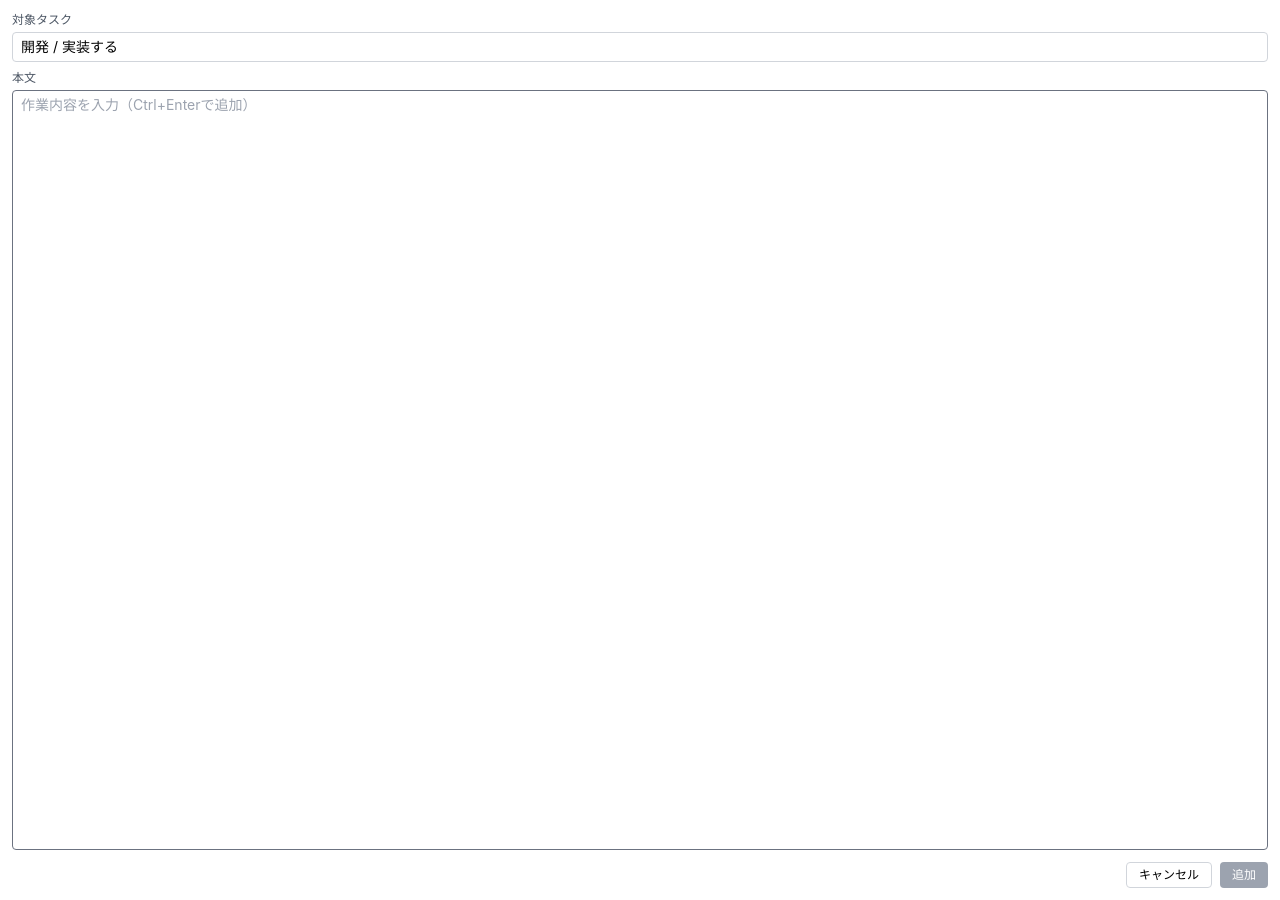
QuickLogDialog › 検索で対象タスクを切り替えられる
The width and height of the screenshot is (1280, 900).
In the field labelled "対象タスク": (640, 47) 12,32 -> 1268,62, type "完了"
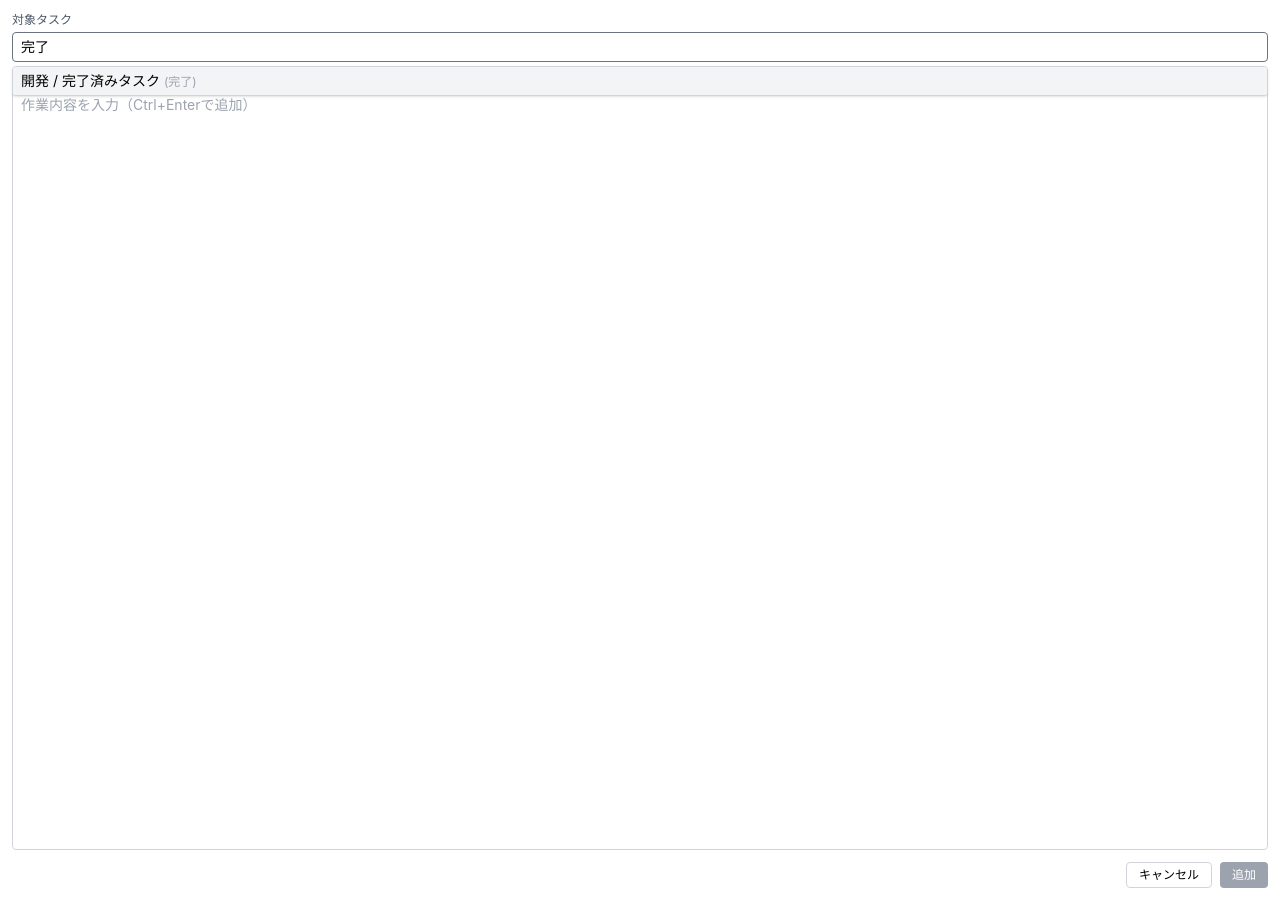
Click the option "開発 / 完了済みタスク(完了)": (90, 80) 13,67 -> 1267,95
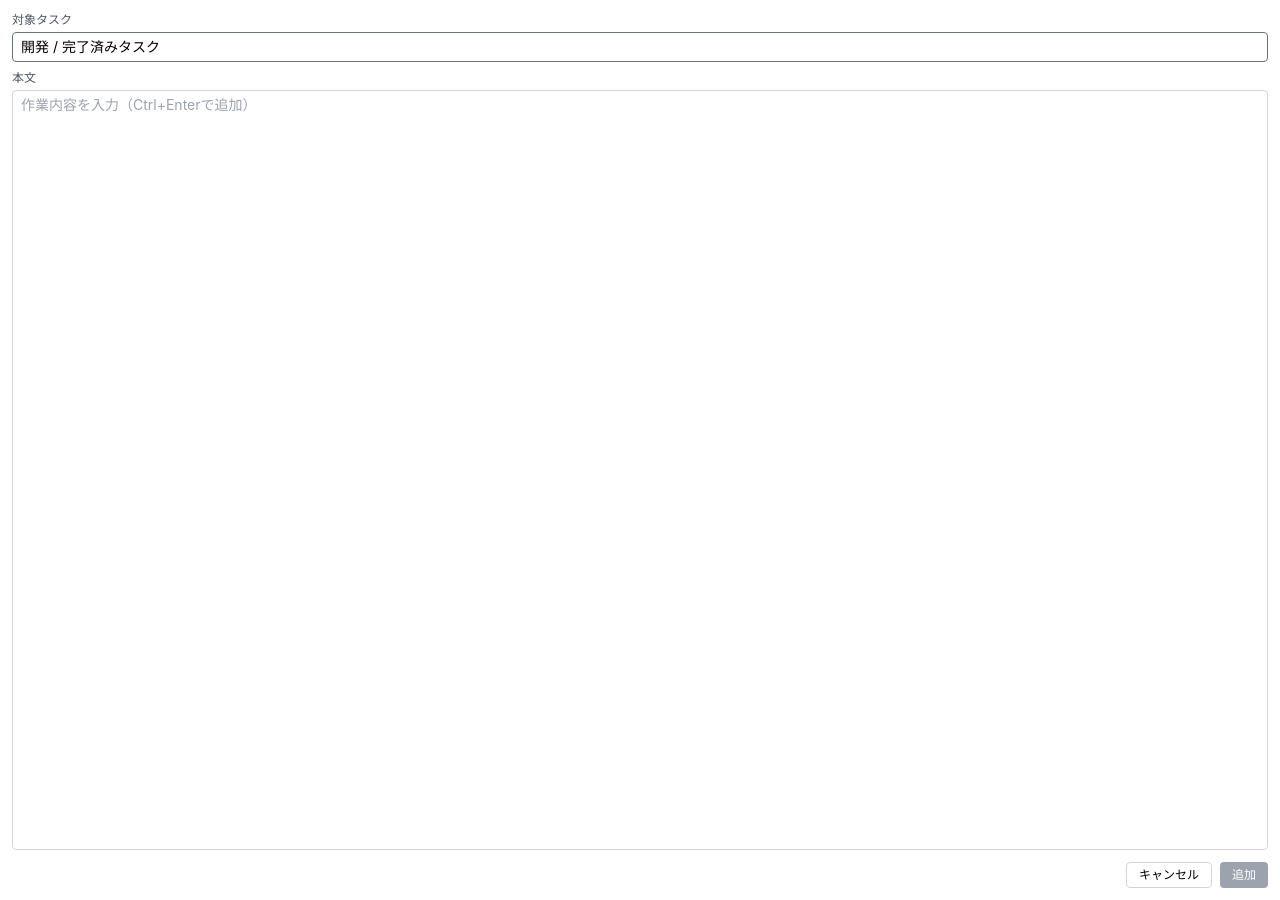
Result: the field labelled "対象タスク" holds "開発 / 完了済みタスク" at 12,32 -> 1268,62
